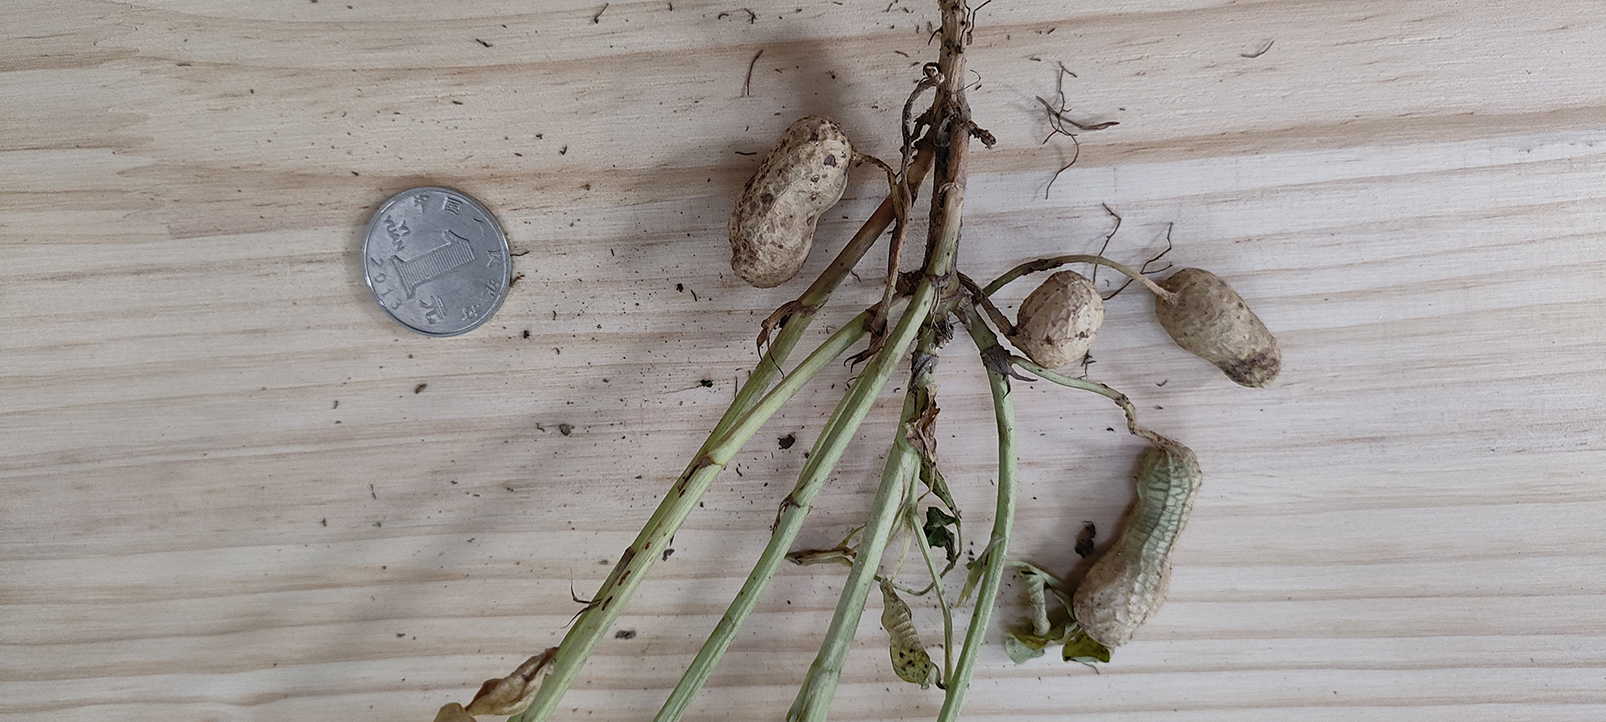h: (1076, 439, 1204, 653), (727, 115, 852, 289), (1156, 269, 1282, 392), (1018, 269, 1105, 366)
